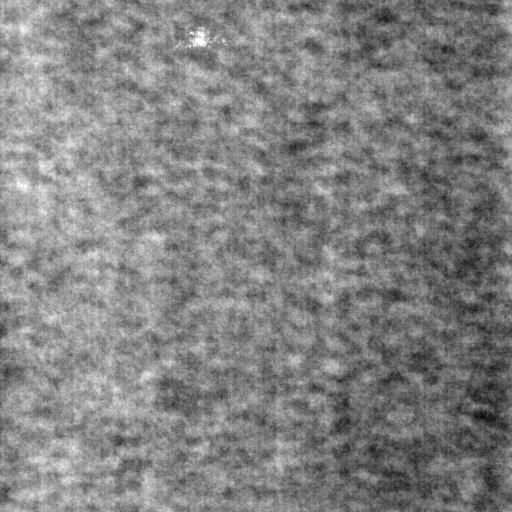DefectTypeA: (181, 24, 222, 51)
